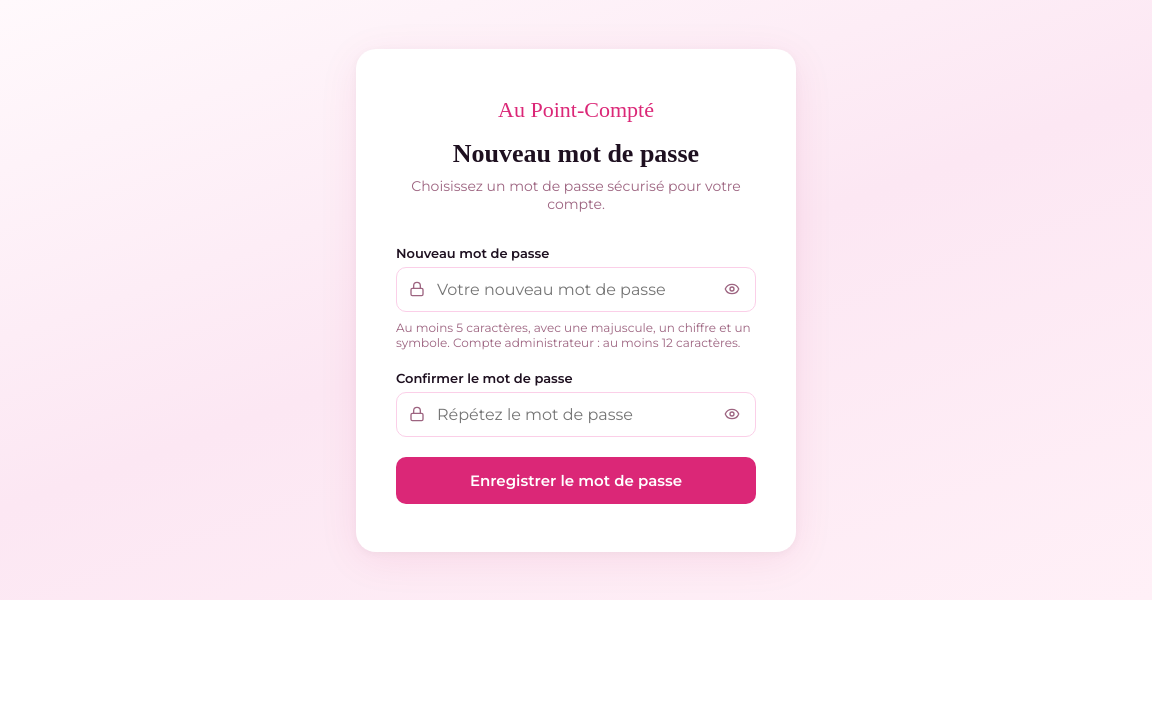
ResetPassword › mot de passe accepté : confirmation
The image size is (1152, 720).
Step 1. Type "PointCompte2026!" into the password field labelled "Nouveau mot de passe" → (576, 289), box [396,266,756,312]
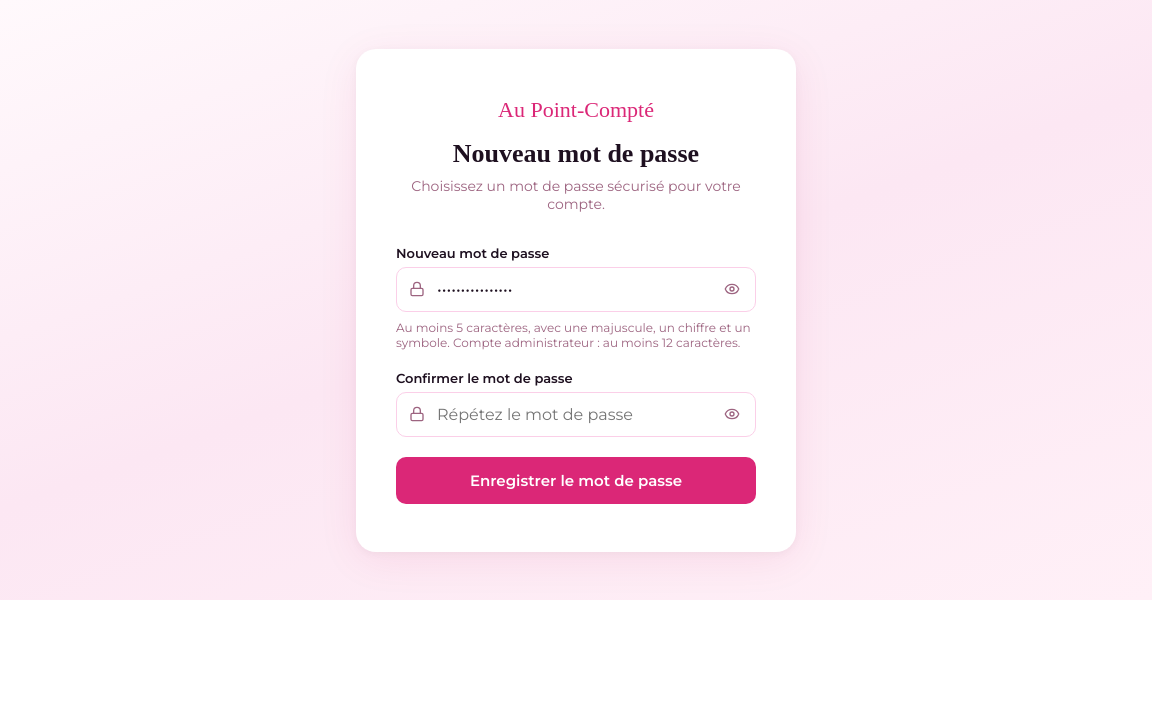
Step 2. Type "PointCompte2026!" into the password field labelled "Confirmer le mot de passe" → (576, 414), box [396,392,756,436]
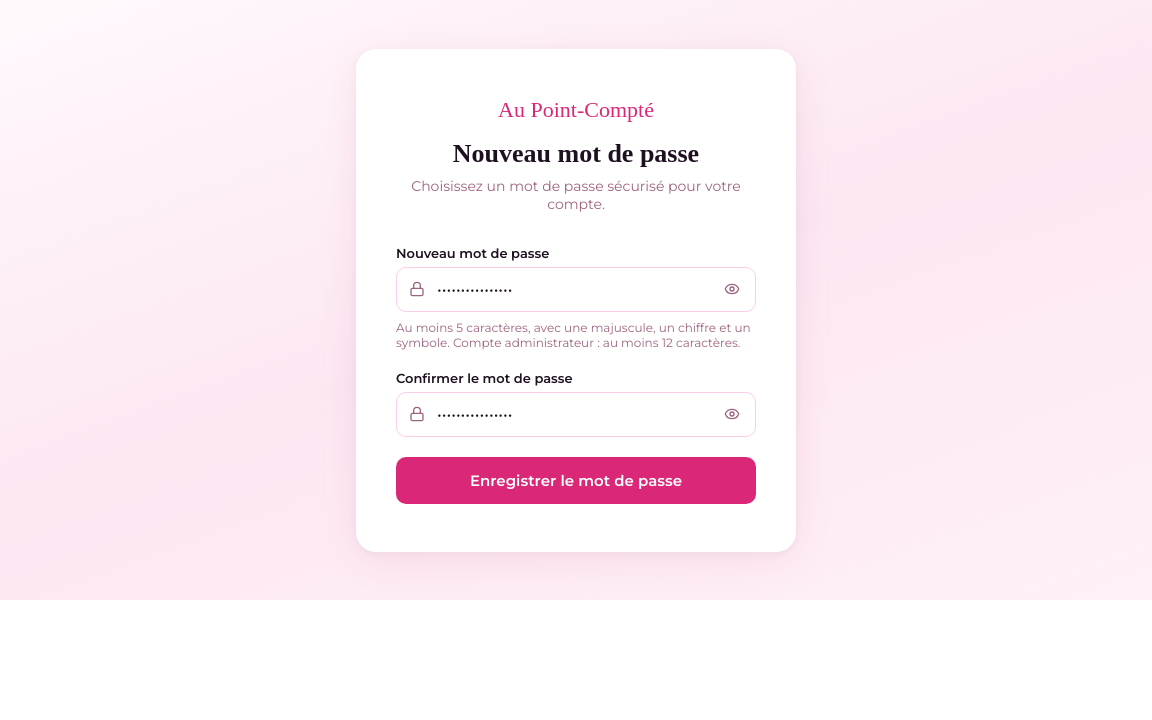
Step 3. Click the button "Enregistrer le mot de passe" → (576, 480), box [396,456,756,504]
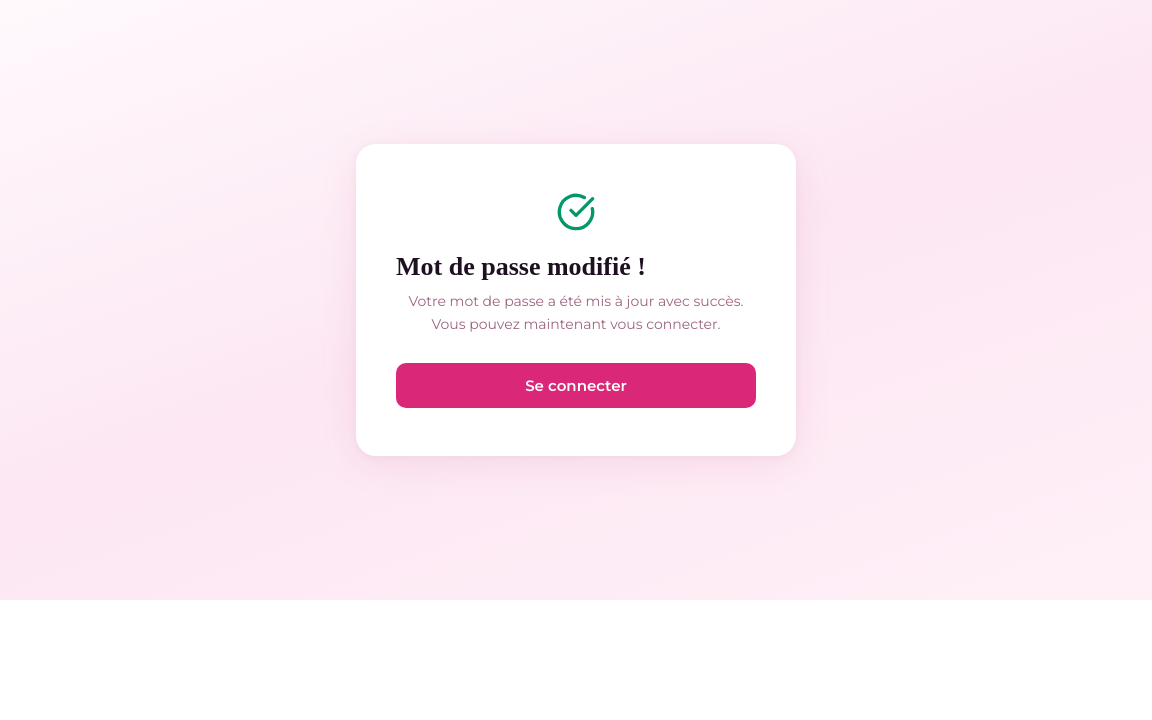
Now the heading "Mot de passe modifié !" is shown, box [396,252,646,281]
